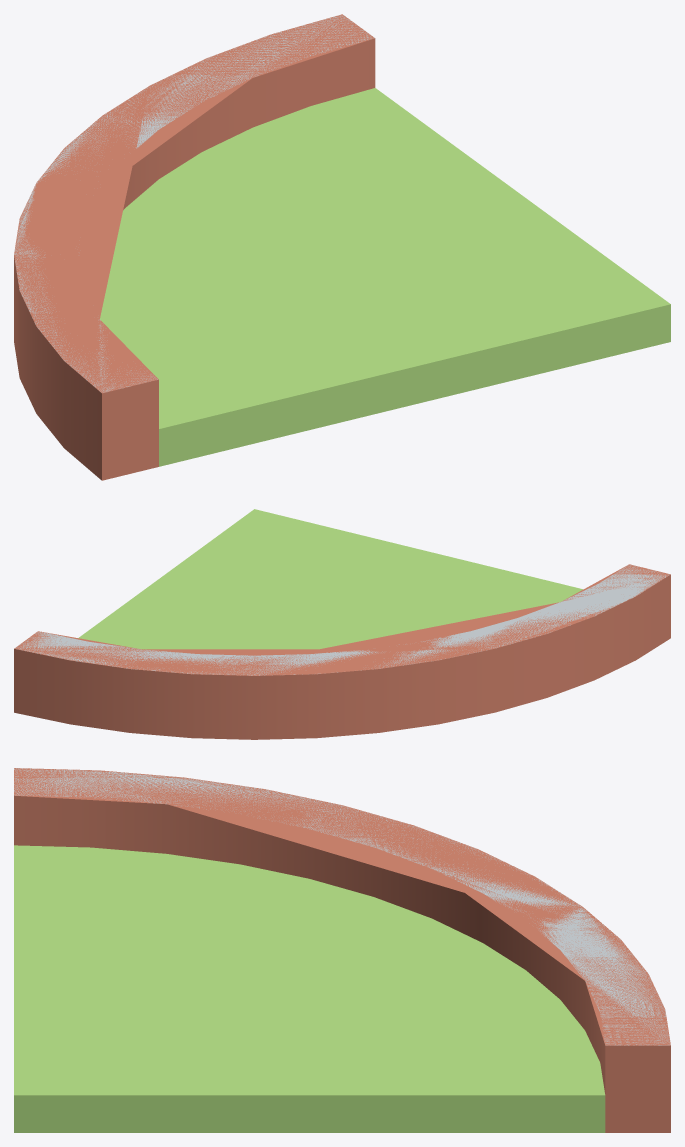
The model's file is Round_corner_3_01.glb.
3 renders of one model, top to bottom at view 1: azimuth 30°, elevation 25°; view 2: azimuth 150°, elevation 25°; view 3: azimuth 270°, elevation 25°, orthographic. The views are drawn at different scales.
Visible parts, largest first — view 1: Mesh1 Round_corner_3 Model; view 2: Mesh1 Round_corner_3 Model; view 3: Mesh1 Round_corner_3 Model.
Part boxes in pixels (x1,y1,x2,y2): Mesh1 Round_corner_3 Model: (14,14,670,480); Mesh1 Round_corner_3 Model: (14,509,670,739); Mesh1 Round_corner_3 Model: (14,768,670,1132).
Bounding box in the file's own units: 3 × 0.44 × 3.
